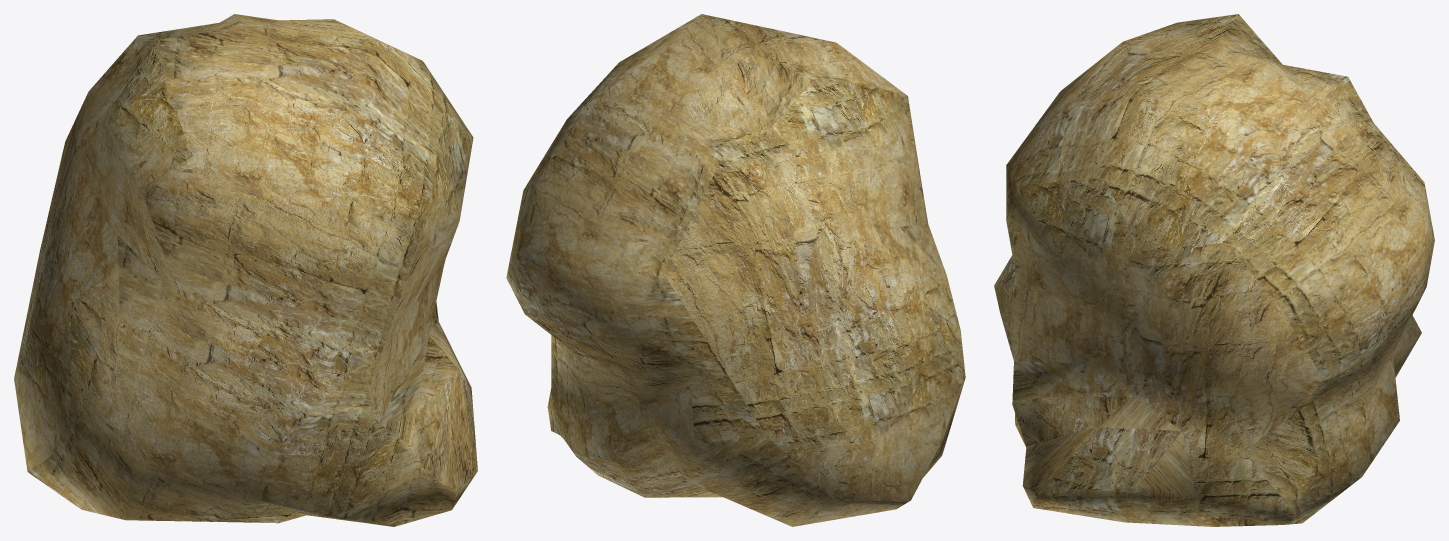
File: Boulder15.dae
The picture shows the model from 3 angles, left to right: view 1: azimuth 30°, elevation 25°; view 2: azimuth 150°, elevation 25°; view 3: azimuth 270°, elevation 25°; orthographic projection. The views are drawn at different scales.
Parts seen in each view (by area): view 1: rock0; view 2: rock0; view 3: rock0.
Part boxes in pixels (<box>): rock0: <box>14,14,477,526</box>; rock0: <box>506,14,965,526</box>; rock0: <box>994,14,1434,526</box>.
Size of the model in its own units: 1.52 by 1.49 by 1.65.
